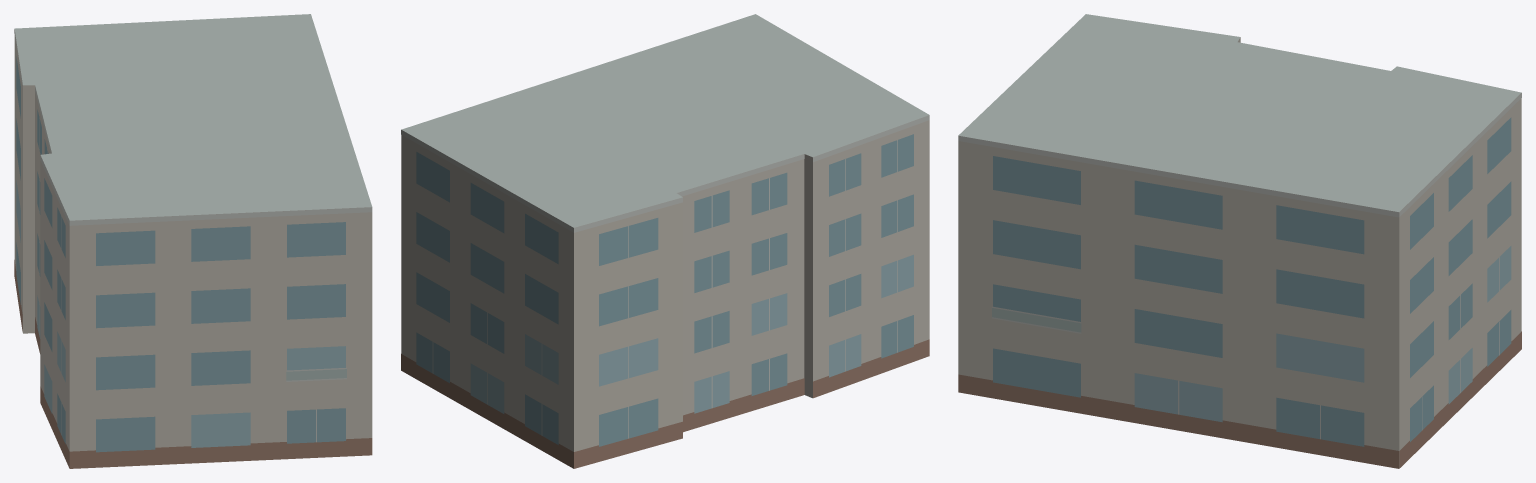
File: survey-upis-32500751.glb
3 renders of one model, left to right at view 1: azimuth 30°, elevation 25°; view 2: azimuth 150°, elevation 25°; view 3: azimuth 270°, elevation 25°, orthographic. The views are drawn at different scales.
Parts seen in each view (by area): view 1: survey-upis-32500751.tmp; view 2: survey-upis-32500751.tmp; view 3: survey-upis-32500751.tmp.
Part boxes in pixels (x1,y1,x2,y2): survey-upis-32500751.tmp: [14, 14, 372, 468]; survey-upis-32500751.tmp: [401, 14, 929, 468]; survey-upis-32500751.tmp: [958, 14, 1521, 468].
Size of the model in its own units: 19.38 by 11.7 by 23.29.
